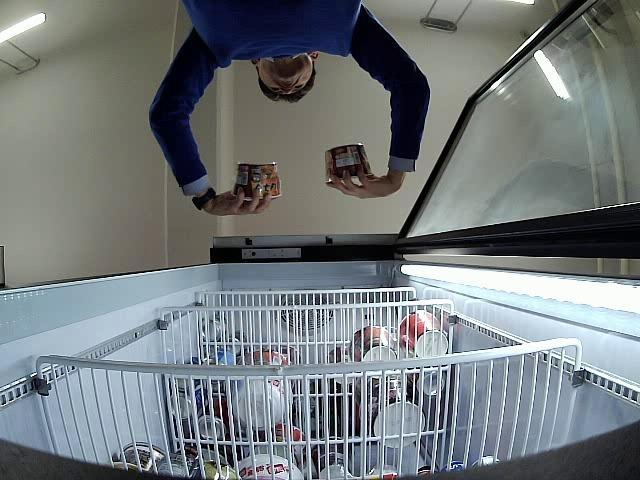05_nuguri_L: (323, 144, 373, 183), (232, 162, 282, 200)
